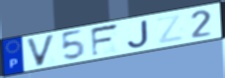2: (189, 9, 214, 40)
5: (60, 27, 87, 62)
F: (89, 22, 121, 59)
J: (126, 19, 150, 49)
V: (25, 32, 58, 68)
Z: (154, 12, 186, 46)
